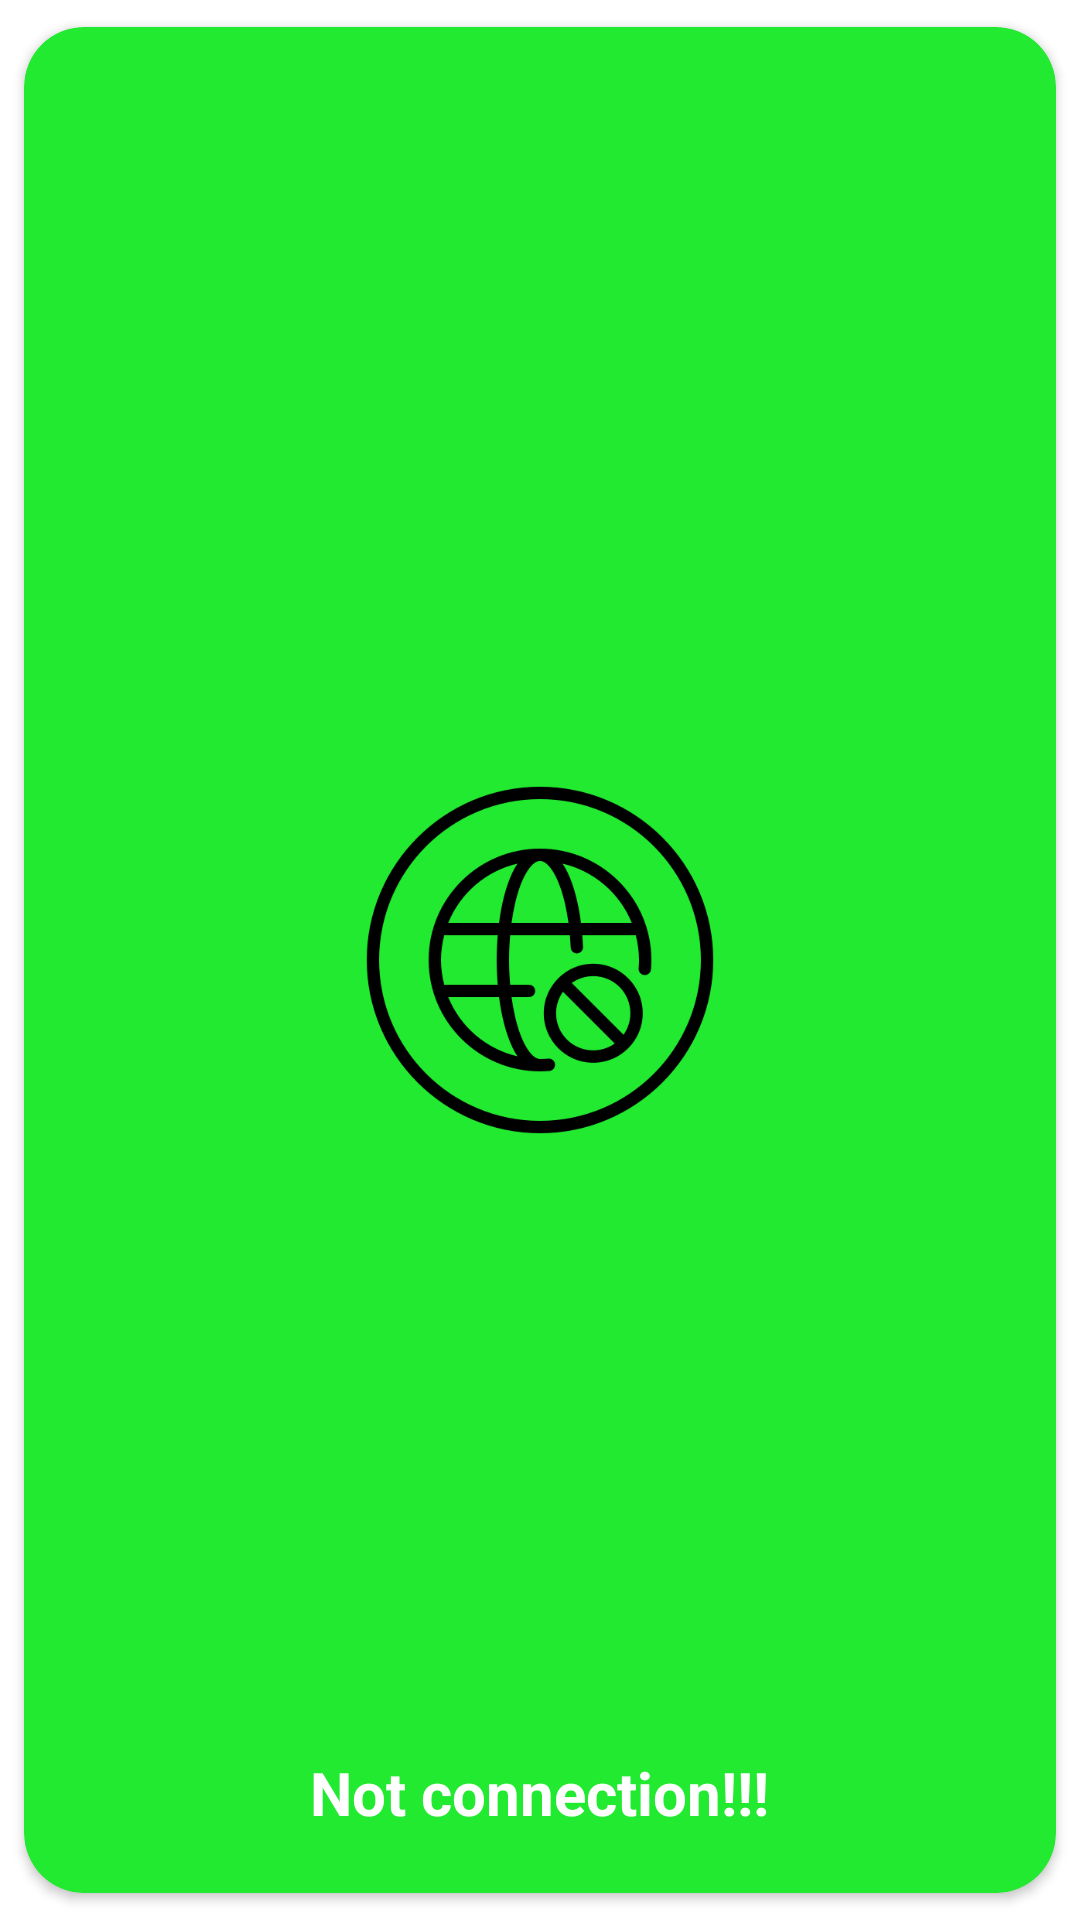

Icons on this 1080px×1920px Android screen, each with its box as (x1, y1, x2, y2):
not connection internet: (366, 786, 714, 1134)
